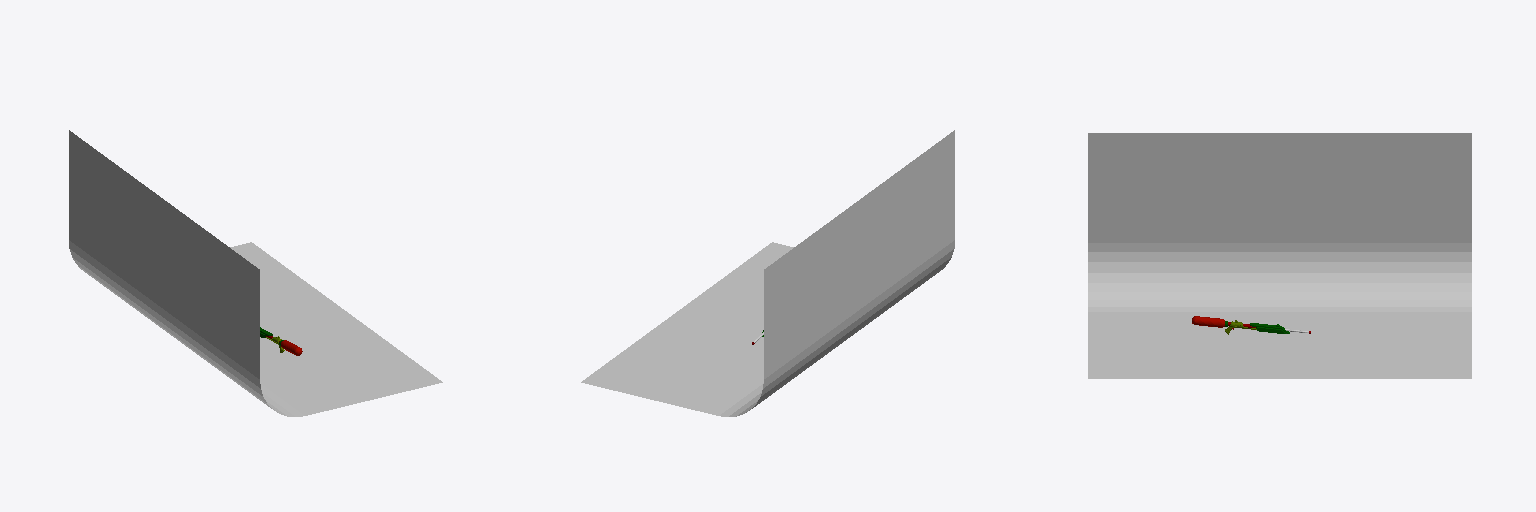
The model's file is チャージャー.obj.
3 renders of one model, left to right at view 1: azimuth 30°, elevation 25°; view 2: azimuth 150°, elevation 25°; view 3: azimuth 270°, elevation 25°, orthographic.
Parts seen in each view (by area): view 1: 平面; view 2: 平面; view 3: 平面.
Part boxes in pixels (x1,y1,x2,y2): 平面: (69, 130, 442, 416); 平面: (581, 130, 954, 416); 平面: (1088, 133, 1471, 378).
Bounding box in the file's own units: 70.62 × 57.92 × 128.